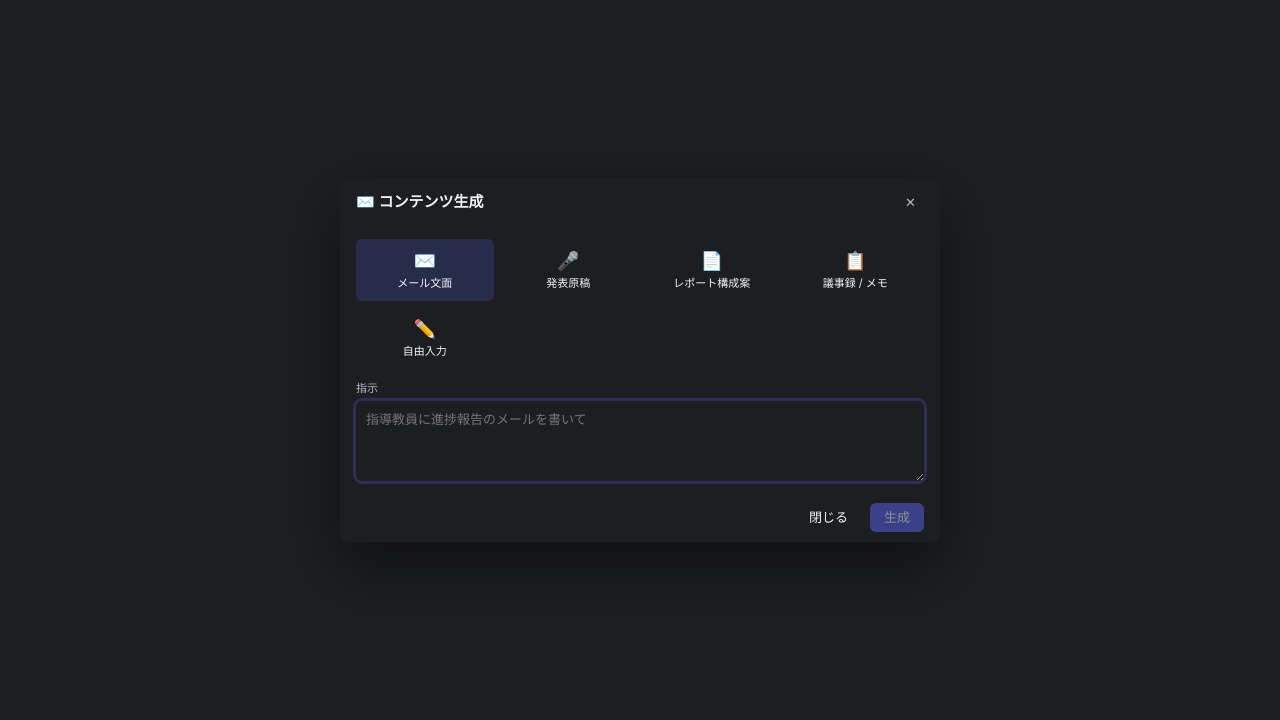
Scenario: ContentGenerator › disables 生成 until an instruction is entered
Check: the button "生成" is disabled, box 870,503 -> 924,532
Type "メールを書いて" into the text box named "生成指示" at (640, 441), box 356,401 -> 924,481
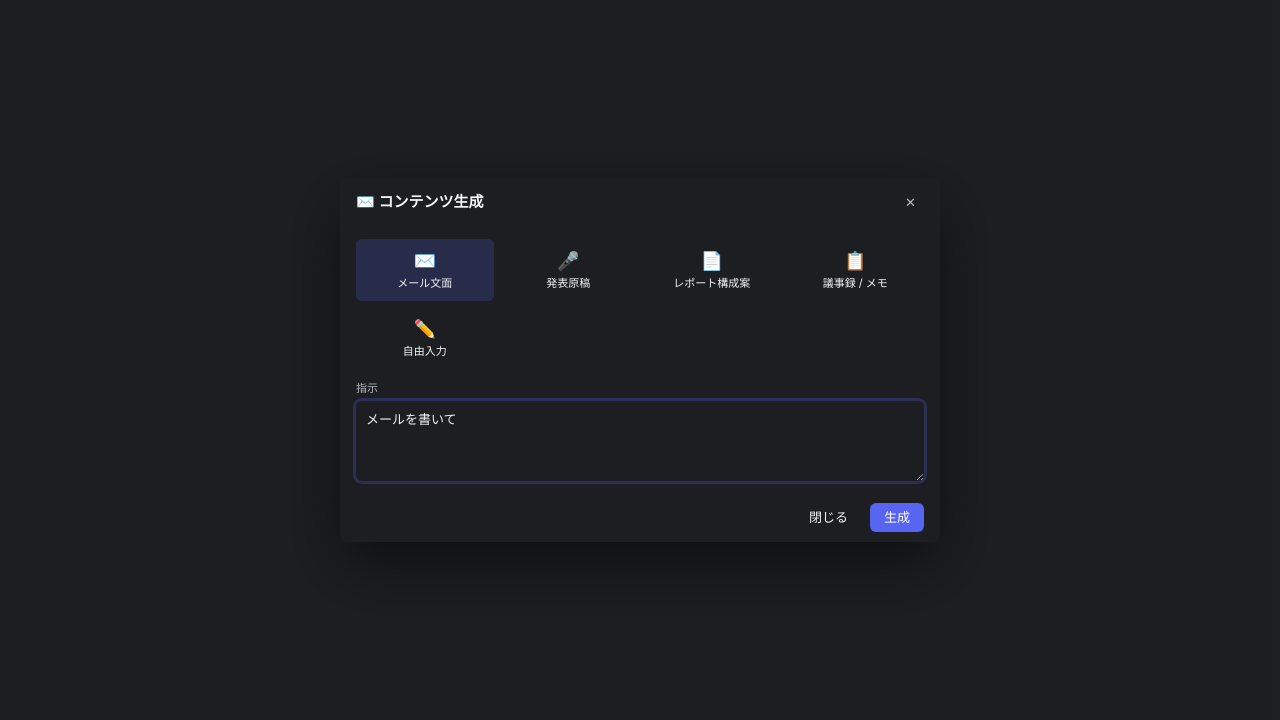
Check: the button "生成" is enabled, box 870,503 -> 924,532
